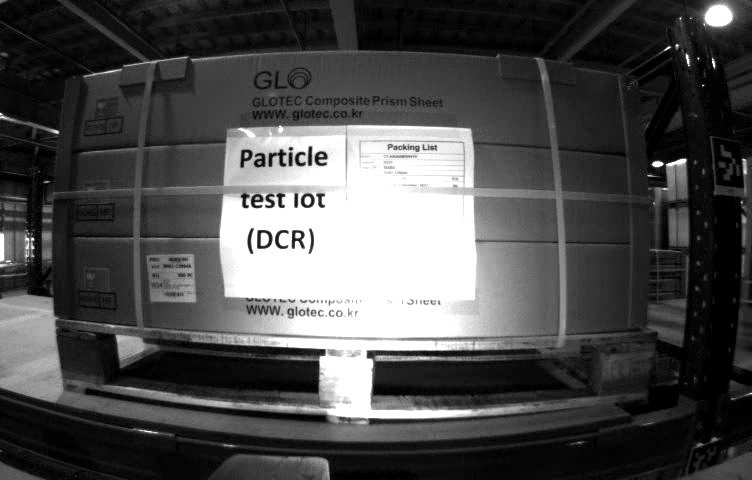True Barcode: (147, 256, 197, 303)
